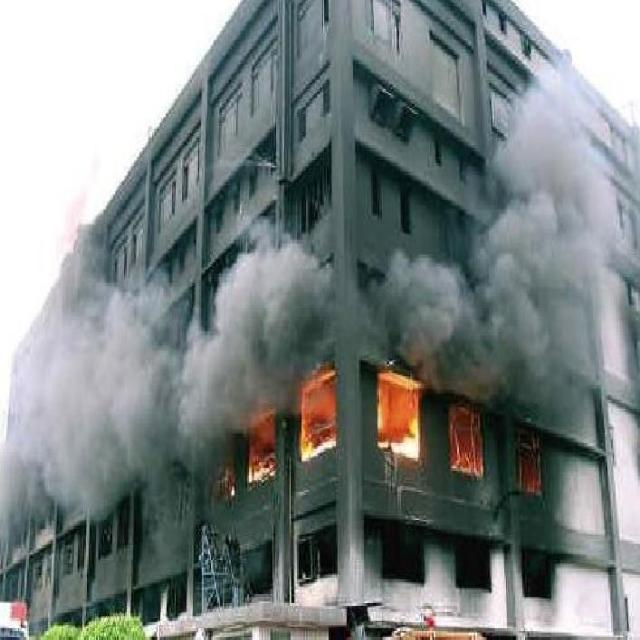fire: (375, 364, 420, 458), (300, 363, 338, 458), (447, 396, 482, 472), (245, 407, 278, 480)
smoke: (1, 225, 325, 529), (380, 44, 622, 396)
